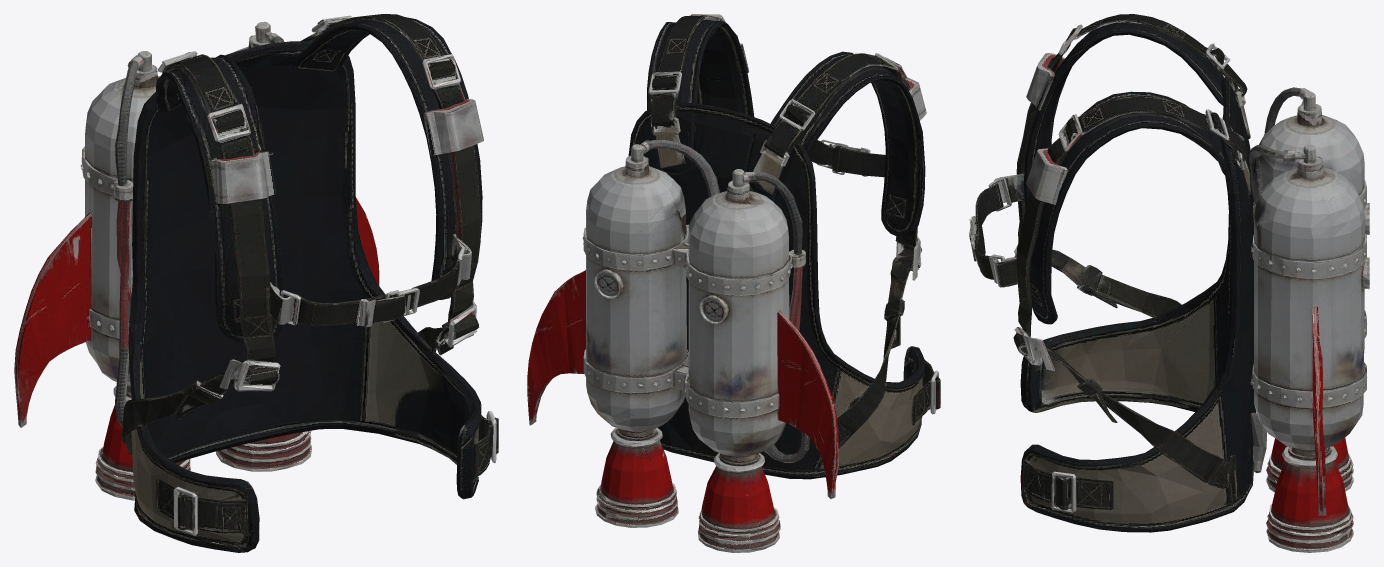
The model's file is ewm_jetpack.glb.
The picture shows the model from 3 angles, left to right: view 1: azimuth 30°, elevation 25°; view 2: azimuth 150°, elevation 25°; view 3: azimuth 270°, elevation 25°; orthographic projection. The views are drawn at different scales.
Parts seen in each view (by area): view 1: ewm_jetpack; view 2: ewm_jetpack; view 3: ewm_jetpack.
Part boxes in pixels (<box>): ewm_jetpack: <box>14,14,498,552</box>; ewm_jetpack: <box>527,14,940,552</box>; ewm_jetpack: <box>969,14,1369,552</box>.
Bounding box in the file's own units: 0.4725 × 0.62 × 0.5008.
Materials: 1 (1 with a texture image).
